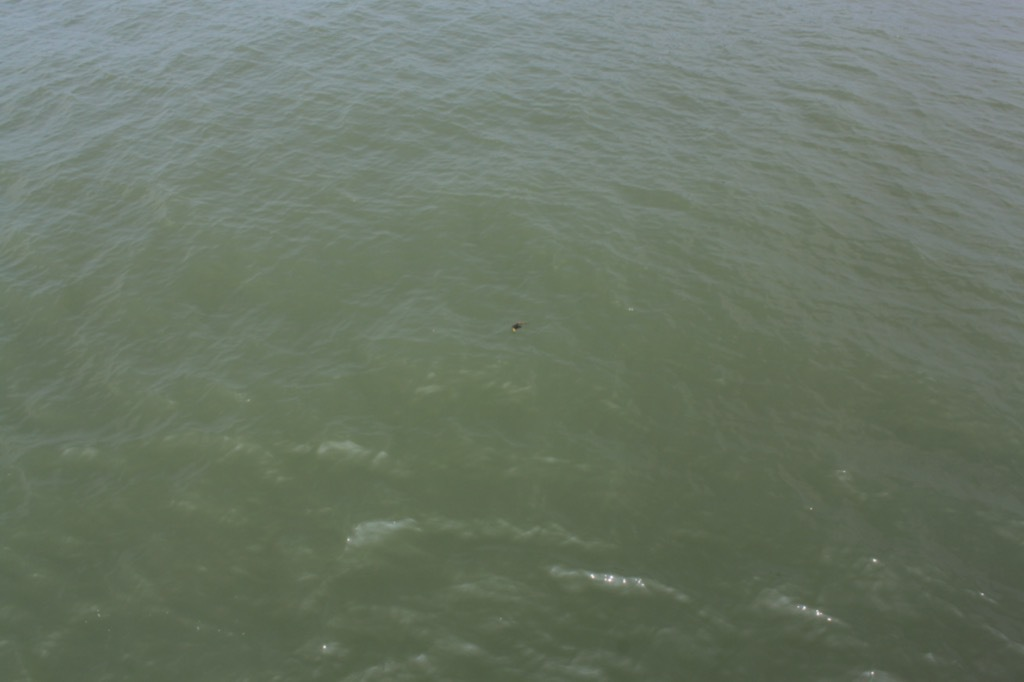plastic: (503, 312, 533, 344)
